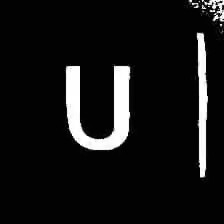LTR_U: (57, 52, 135, 156)
